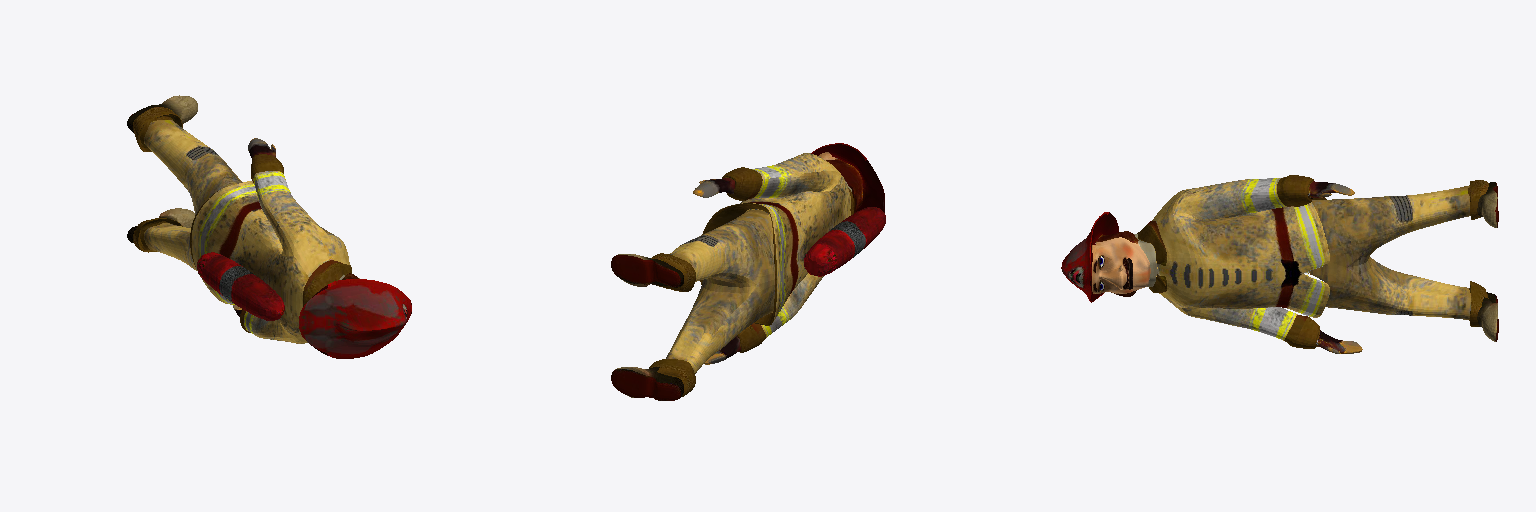
3 views of the same model, side by side, from view 1: azimuth 30°, elevation 25°; view 2: azimuth 150°, elevation 25°; view 3: azimuth 270°, elevation 25° (orthographic).
Parts seen in each view (by area): view 1: fireman.obj; view 2: fireman.obj; view 3: fireman.obj.
Part boxes in pixels (bbox=[...]): fireman.obj: bbox=[127, 95, 411, 358]; fireman.obj: bbox=[611, 143, 885, 400]; fireman.obj: bbox=[1061, 175, 1498, 353].
Bounding box in the file's own units: 11.77 × 15.71 × 35.85.
1 materials, 1 textured.